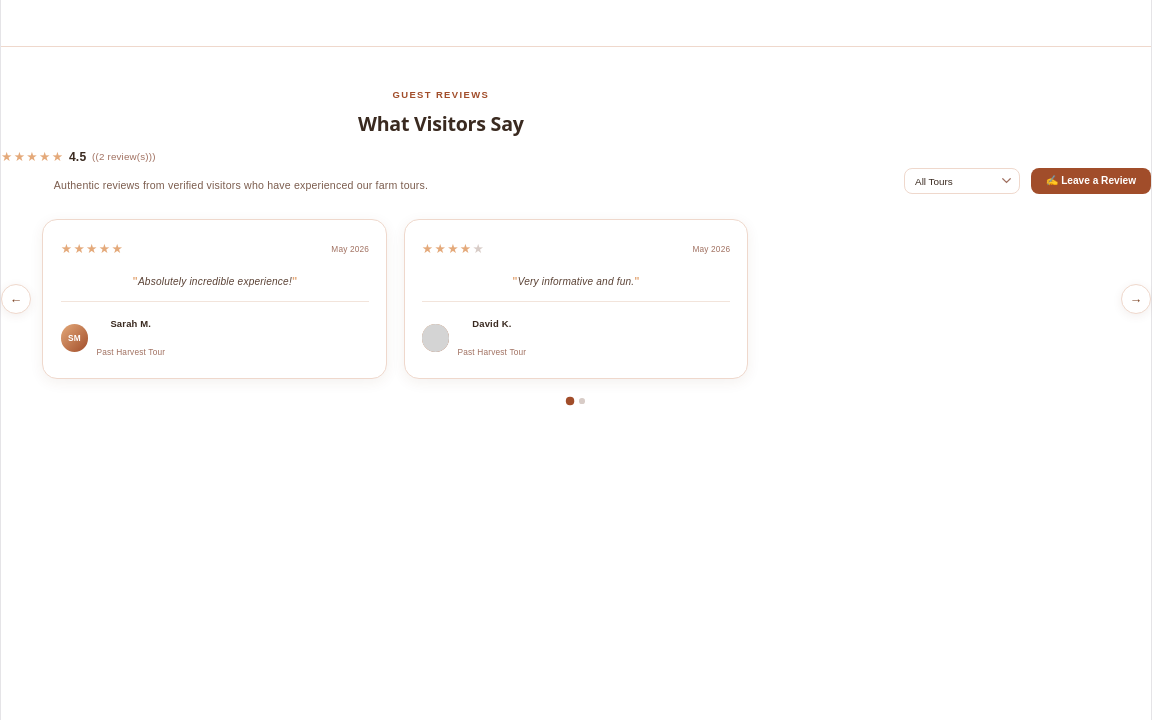
Test case: ReviewsSection › opens the review modal when Leave a Review is clicked
Click the button "✍ Leave a Review" at x=1091, y=181, box x1=1031 y1=168 x2=1151 y2=194
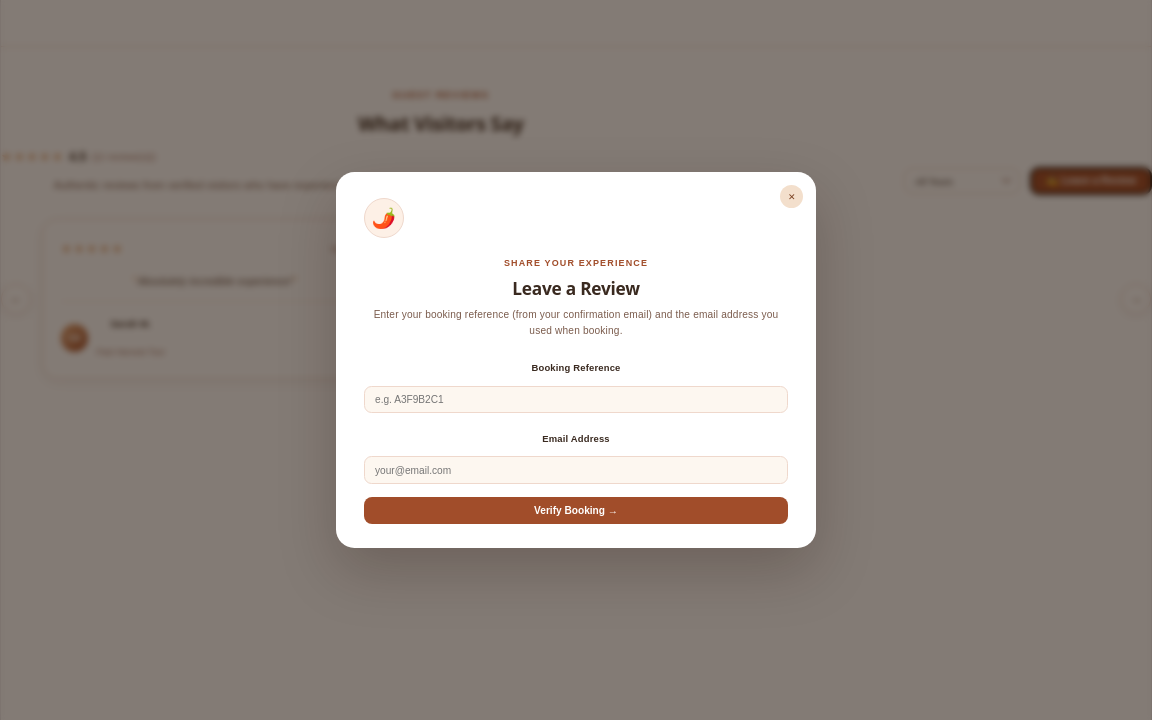
Result: the dialog is shown at x1=336 y1=172 x2=816 y2=548
Result: the field labelled "Booking Reference" is shown at x1=364 y1=386 x2=788 y2=414
